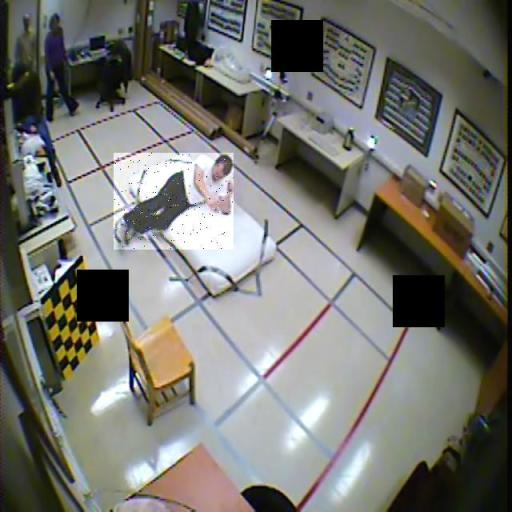Fall: (114, 153, 234, 250)
